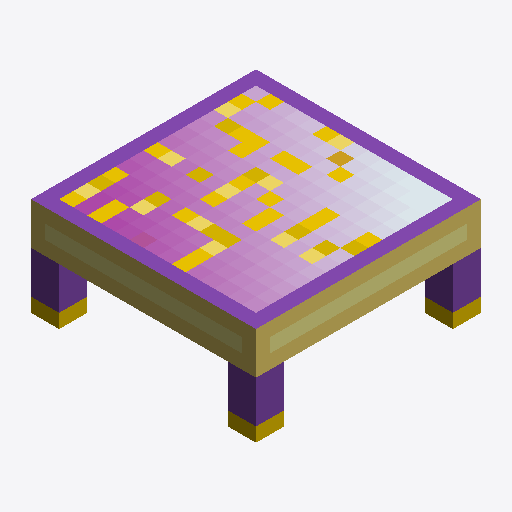
Isometric view (azimuth 45°, elevation 35.3°) of a Minecraft model made of 5 cuboids, textured from the same repository.
Parts seen in each view (by area): tabletop, element 3, element 1, element 4.
Part boxes in pixels (left/top/right/bottom): tabletop: left=31, top=70, right=480, bottom=376; element 3: left=228, top=362, right=283, bottom=441; element 1: left=31, top=248, right=86, bottom=328; element 4: left=425, top=248, right=480, bottom=328.
Size of the model in its own units: 16 by 7 by 16.